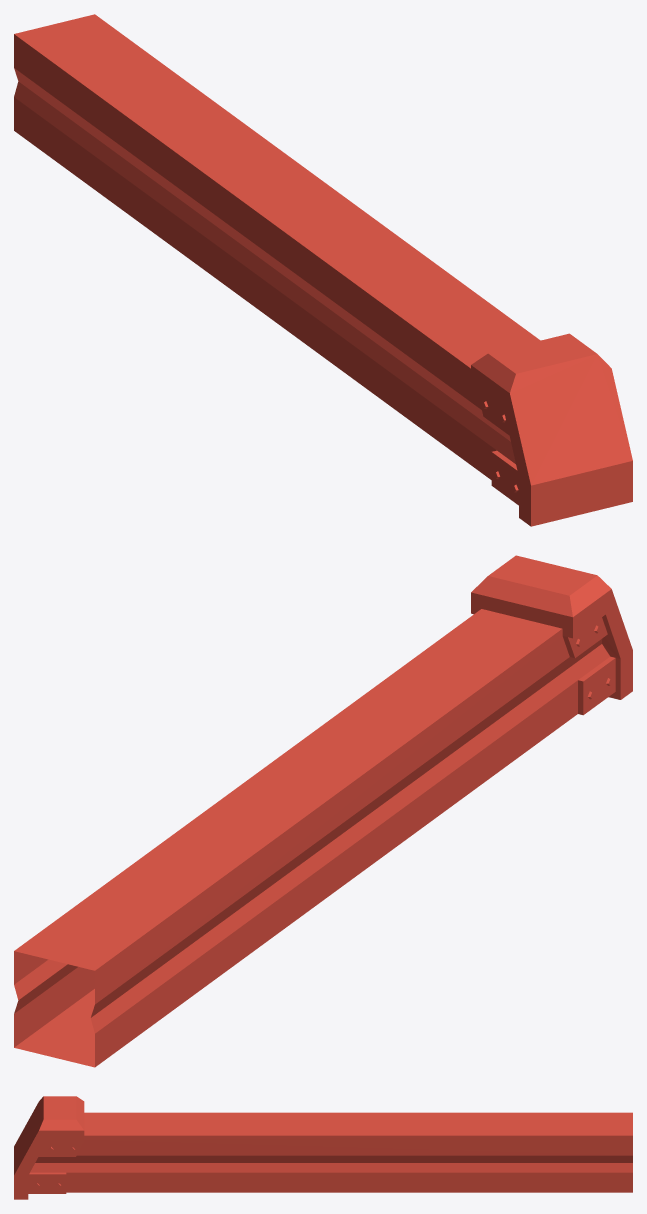
File: SM_Telehandler_Arm_B.fbx
The picture shows the model from 3 angles, top to bottom: view 1: azimuth 30°, elevation 25°; view 2: azimuth 150°, elevation 25°; view 3: azimuth 270°, elevation 25°; orthographic projection. The views are drawn at different scales.
Parts seen in each view (by area): view 1: SM_Telehandler_Arm_B; view 2: SM_Telehandler_Arm_B; view 3: SM_Telehandler_Arm_B.
Part boxes in pixels (left/top/right/bottom): SM_Telehandler_Arm_B: left=14, top=14, right=632, bottom=526; SM_Telehandler_Arm_B: left=14, top=555, right=632, bottom=1067; SM_Telehandler_Arm_B: left=14, top=1096, right=632, bottom=1199.
Bounding box in the file's own units: 414 × 46.17 × 57.08.
